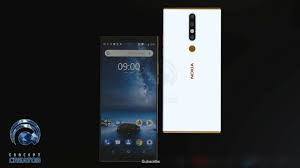nokia: (159, 1, 227, 146)
